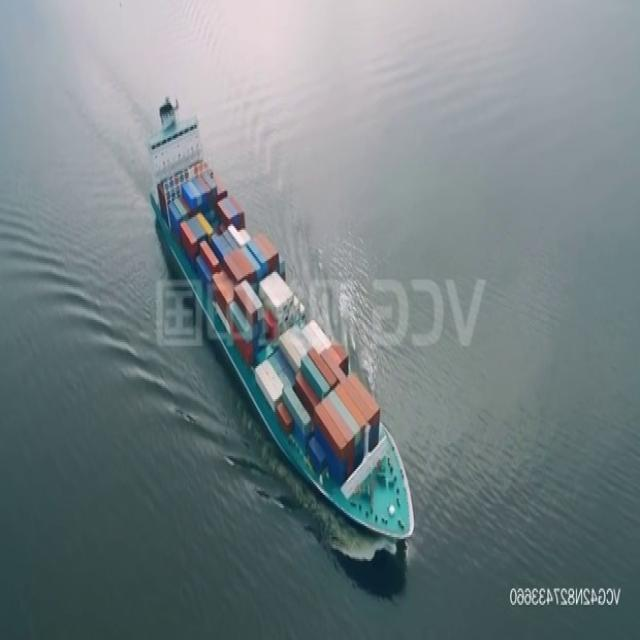cargoship: (148, 92, 420, 545)
